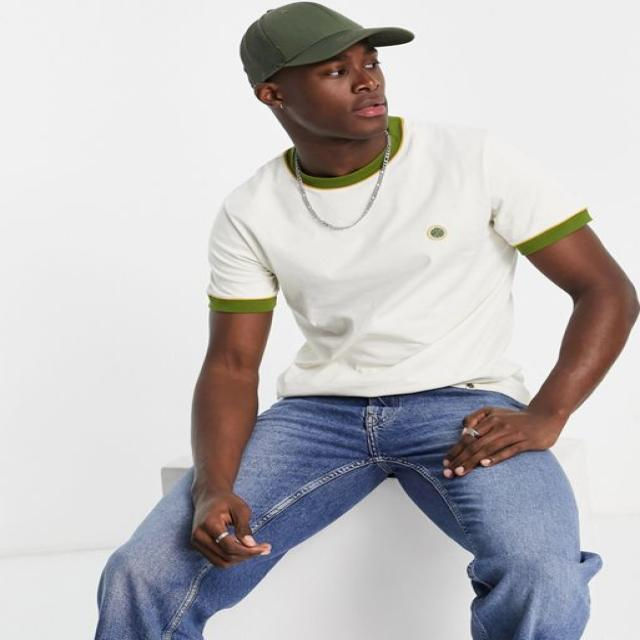tshirt: (201, 114, 592, 404)
